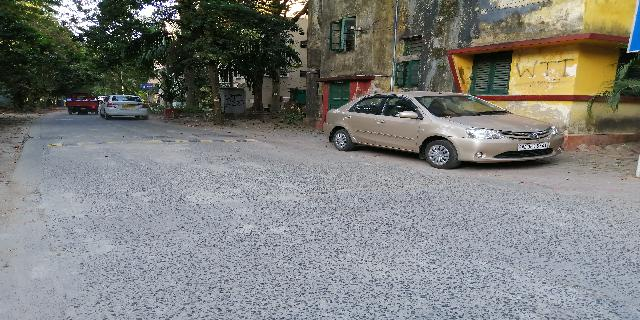Car: (322, 90, 570, 173), (95, 90, 151, 122)
